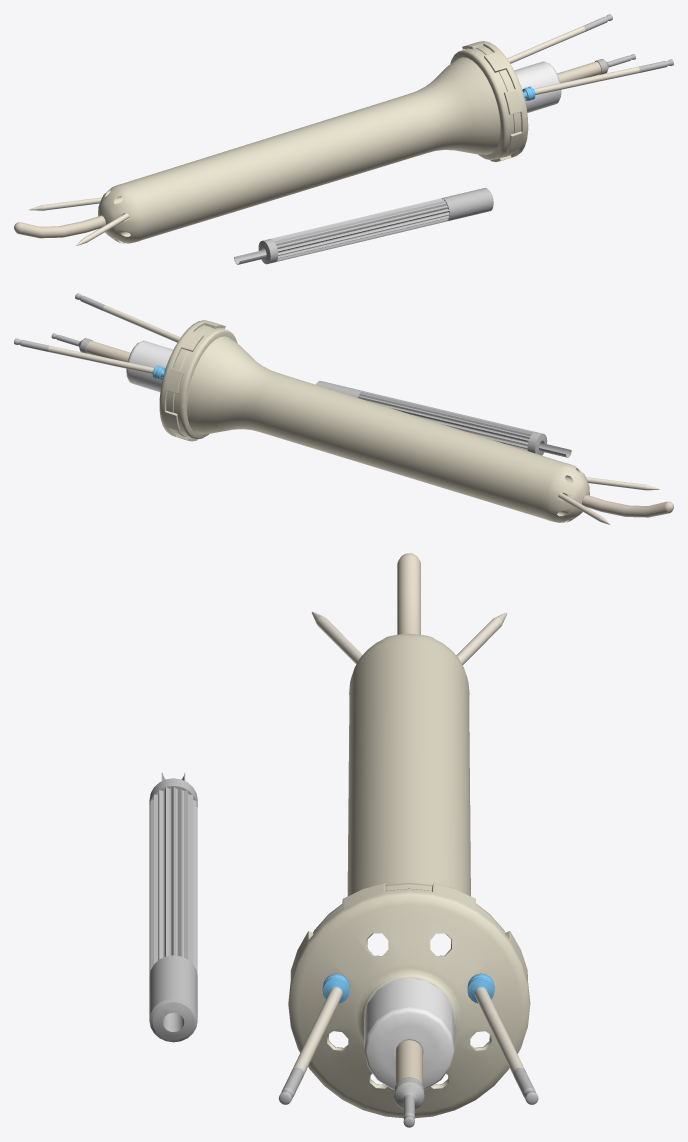
File: Device_2.glb
3 views of the same model, one above another, from view 1: azimuth 30°, elevation 25°; view 2: azimuth 150°, elevation 25°; view 3: azimuth 270°, elevation 25° (orthographic). The views are drawn at different scales.
Visible parts, largest first — view 1: Buffer_Layer, prop_4_Needle1, main_surface_2, middle_part, Buffer_Layer_1, Buffer_Layer_11, Buffer_Layer_7, Buffer_Layer_2, Needle_tip_2; view 2: Buffer_Layer, prop_4_Needle1, main_surface_2, middle_part, Buffer_Layer_1, Buffer_Layer_7, Buffer_Layer_11, Buffer_Layer_2, Needle_tip_1; view 3: main_surface_2, Buffer_Layer, prop_4_Needle1, middle_part, Buffer_Layer_1, Buffer_Layer_11, Buffer_Layer_7, Buffer_Layer_2, Buffer_Layer_3.
Boxes of the visible parts, <box> form: Buffer_Layer: <box>98,46,521,243</box>; prop_4_Needle1: <box>234,187,493,264</box>; main_surface_2: <box>462,41,528,161</box>; middle_part: <box>514,61,561,112</box>; Buffer_Layer_1: <box>14,215,105,238</box>; Buffer_Layer_11: <box>533,67,639,94</box>; Buffer_Layer_7: <box>507,26,585,63</box>; Buffer_Layer_2: <box>557,61,601,83</box>; Needle_tip_2: <box>29,197,101,210</box>; Buffer_Layer: <box>166,325,589,522</box>; prop_4_Needle1: <box>315,381,571,457</box>; main_surface_2: <box>159,320,225,441</box>; middle_part: <box>126,340,173,392</box>; Buffer_Layer_1: <box>582,495,673,517</box>; Buffer_Layer_7: <box>48,346,154,373</box>; Buffer_Layer_11: <box>102,305,180,342</box>; Buffer_Layer_2: <box>86,340,130,361</box>; Needle_tip_1: <box>586,477,659,490</box>; main_surface_2: <box>288,882,530,1118</box>; Buffer_Layer: <box>313,633,505,933</box>; prop_4_Needle1: <box>149,772,197,1042</box>; middle_part: <box>364,977,454,1089</box>; Buffer_Layer_1: <box>397,553,420,634</box>; Buffer_Layer_11: <box>292,987,342,1074</box>; Buffer_Layer_7: <box>474,987,524,1074</box>; Buffer_Layer_2: <box>395,1040,422,1084</box>; Buffer_Layer_3: <box>394,1077,424,1127</box>.
Size of what is drawn, in the model's own units: 0.1021 by 0.017 by 0.0274.
